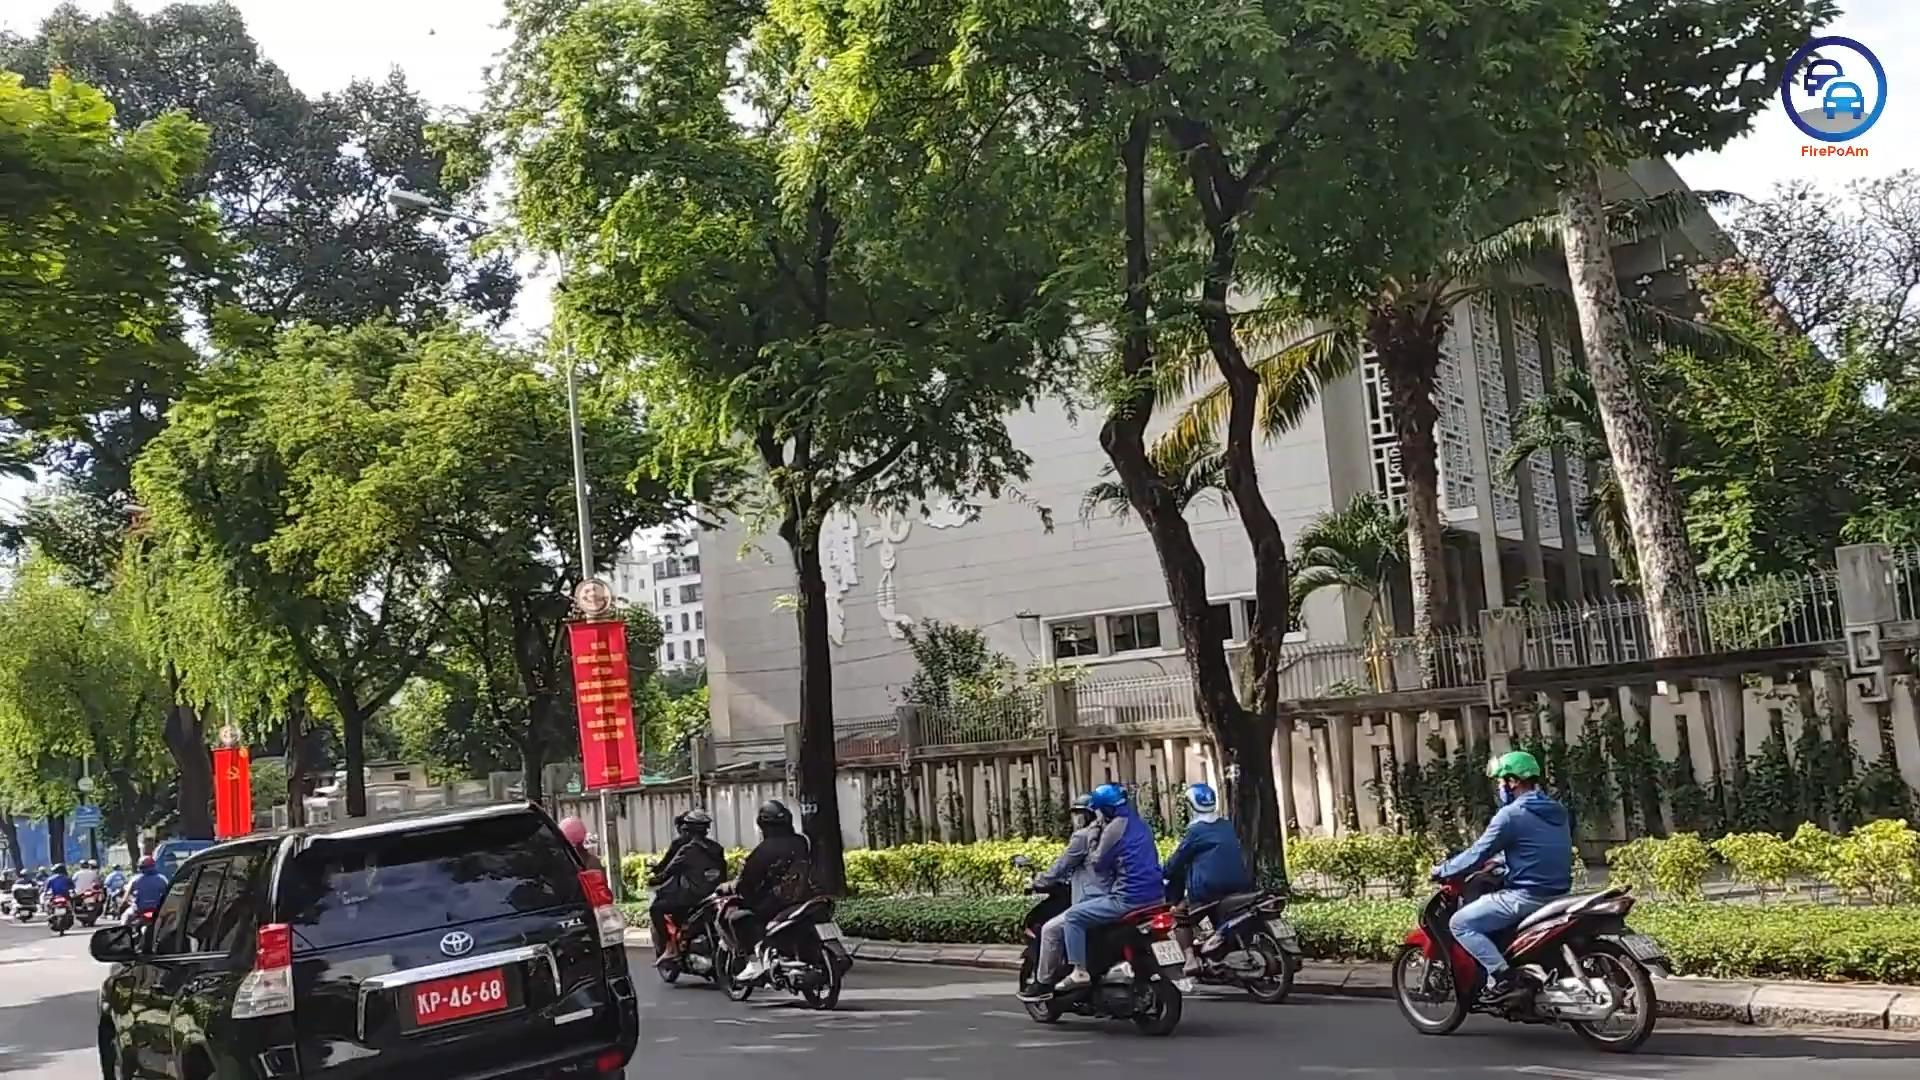bien_so: (409, 965, 507, 1028)
